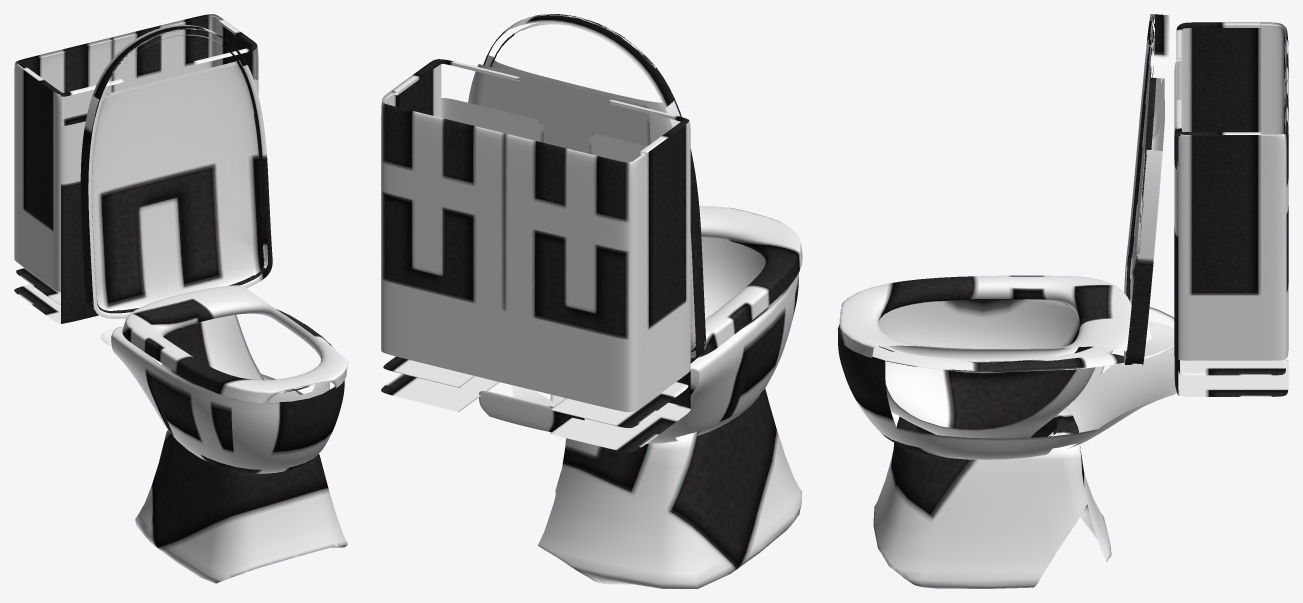
File: cesso.fbx
The picture shows the model from 3 angles, left to right: view 1: azimuth 30°, elevation 25°; view 2: azimuth 150°, elevation 25°; view 3: azimuth 270°, elevation 25°; orthographic projection. The views are drawn at different scales.
Visible parts, largest first — view 1: Sporte_Plane; view 2: Sporte_Plane; view 3: Sporte_Plane.
Boxes of the visible parts, x1,y1,x2,y2 form: Sporte_Plane: [14, 14, 348, 583]; Sporte_Plane: [381, 14, 802, 588]; Sporte_Plane: [837, 14, 1288, 588].
Bounding box in the file's own units: 44.76 × 97.83 × 76.29.
